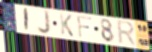8: (100, 19, 116, 44)
F: (76, 14, 94, 39)
I: (24, 7, 30, 33)
J: (37, 9, 52, 36)
K: (58, 12, 75, 38)
R: (116, 19, 138, 48)
